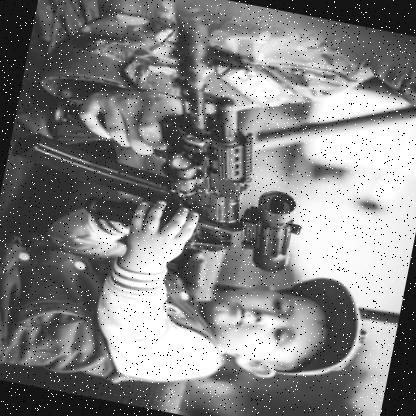rifle: (5, 0, 333, 295)
